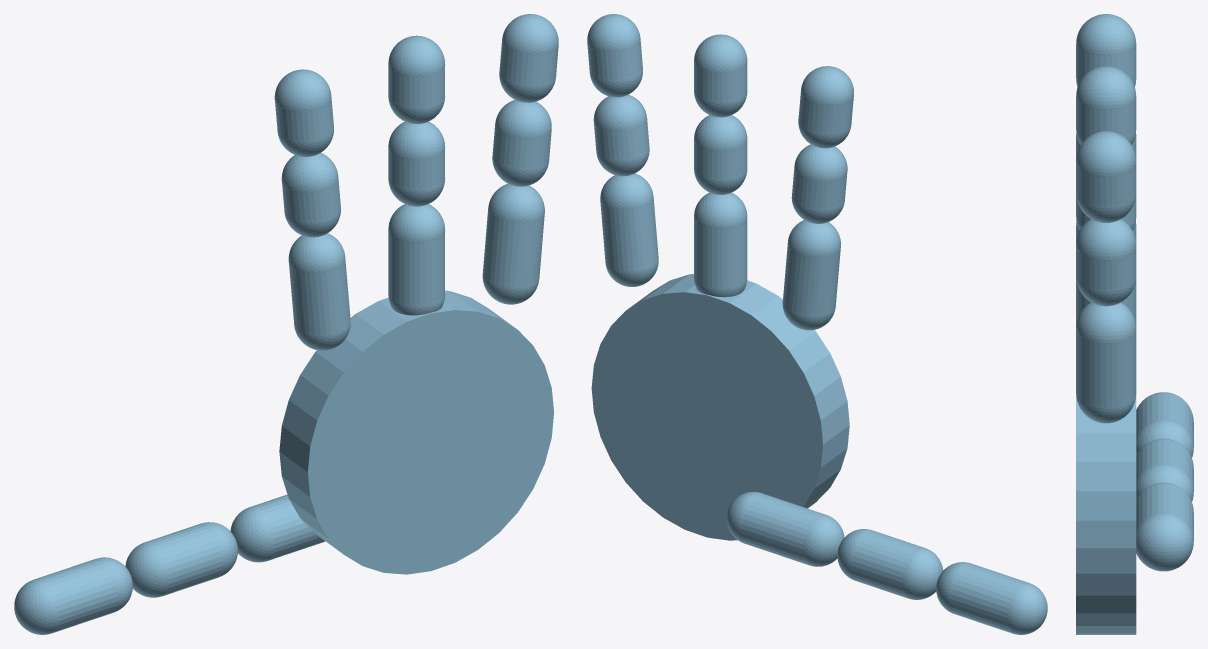
The model's file is allegro_hand_left_canonical.glb.
3 views of the same model, side by side, from view 1: azimuth 30°, elevation 25°; view 2: azimuth 150°, elevation 25°; view 3: azimuth 270°, elevation 25° (orthographic). The views are drawn at different scales.
Parts seen in each view (by area): view 1: world; view 2: world; view 3: world.
Boxes of the visible parts, x1=… form: world: x1=14, y1=14, x2=558, y2=634; world: x1=587, y1=14, x2=1047, y2=634; world: x1=1076, y1=14, x2=1193, y2=634.
Size of the model in its own units: 0.2483 by 0.2464 by 0.047.
